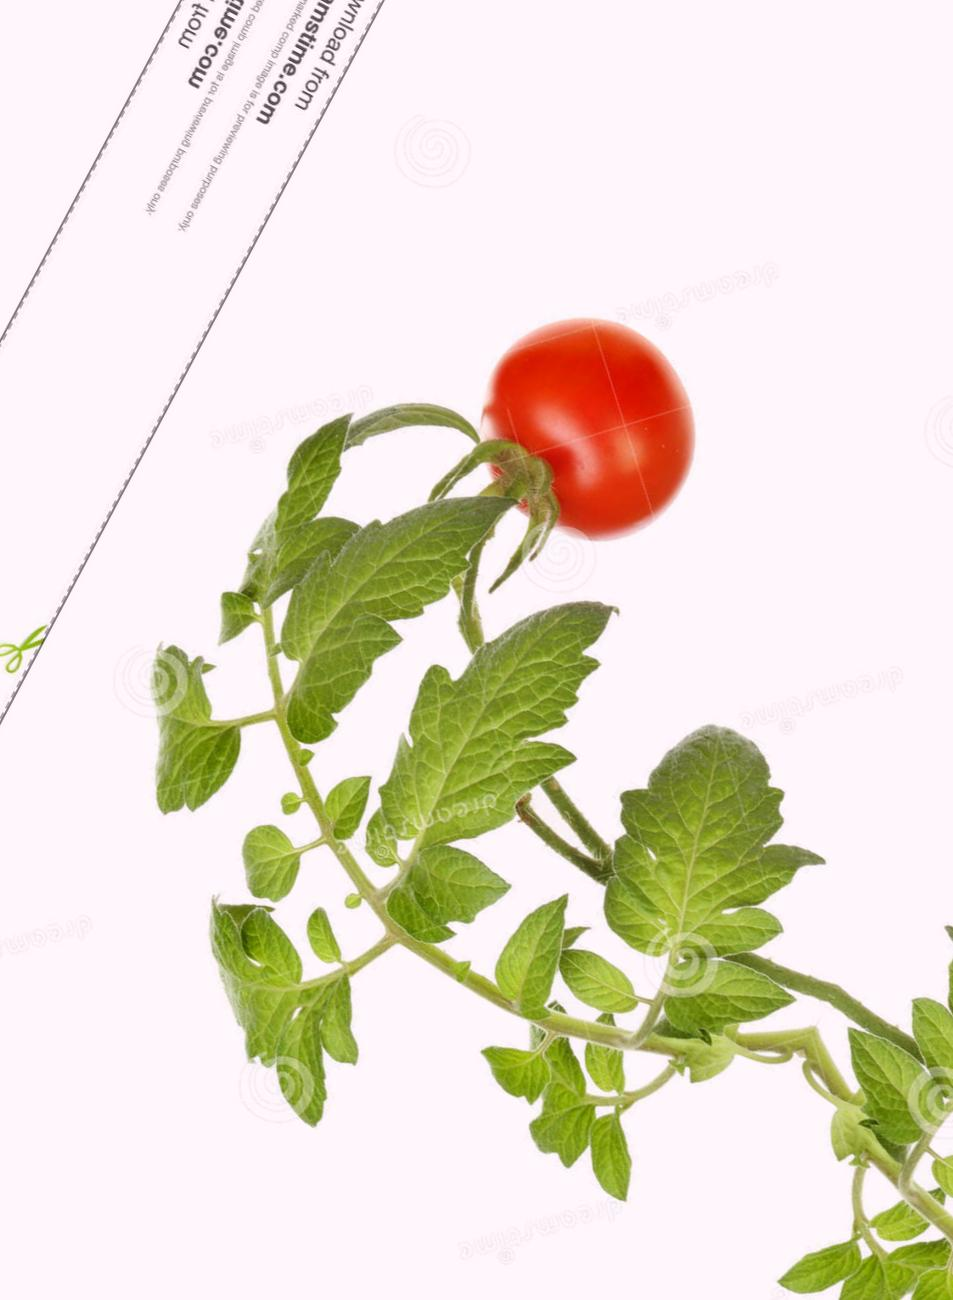Tomato leaf: (280, 517, 665, 996), (173, 351, 537, 824), (530, 645, 897, 1044), (465, 869, 603, 1035)
